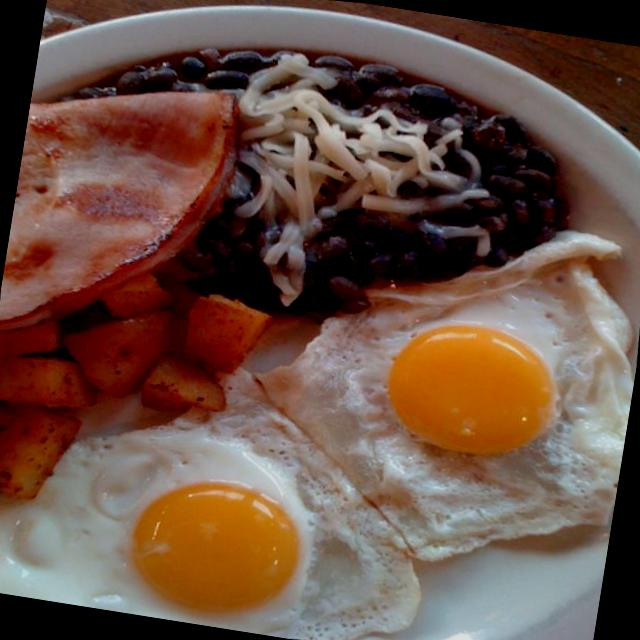Egg: (266, 244, 640, 582), (0, 371, 463, 640)
